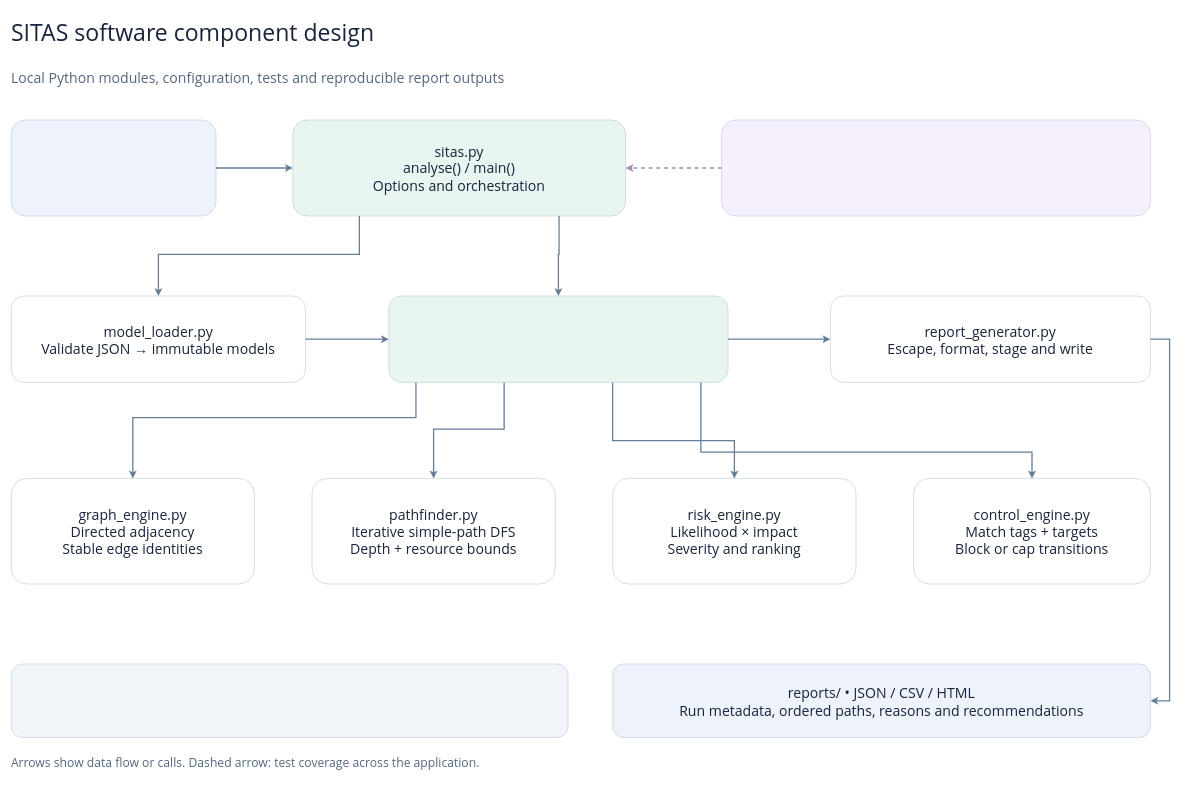
This 1187x788 diagram has some shape labels left out. Here are the shapes that lost their labels. From the top down, the box of each, then its label:
(11, 119, 216, 216): config/ + scenarios/ Synthetic JSON
(721, 119, 1150, 216): tests/ Unit, scenario and integration checks
(388, 295, 728, 382): comparison_engine.py Coordinate baseline / controls Match paths and summarise
(11, 663, 568, 738): models.py Immutable data contracts shared by computational modules
